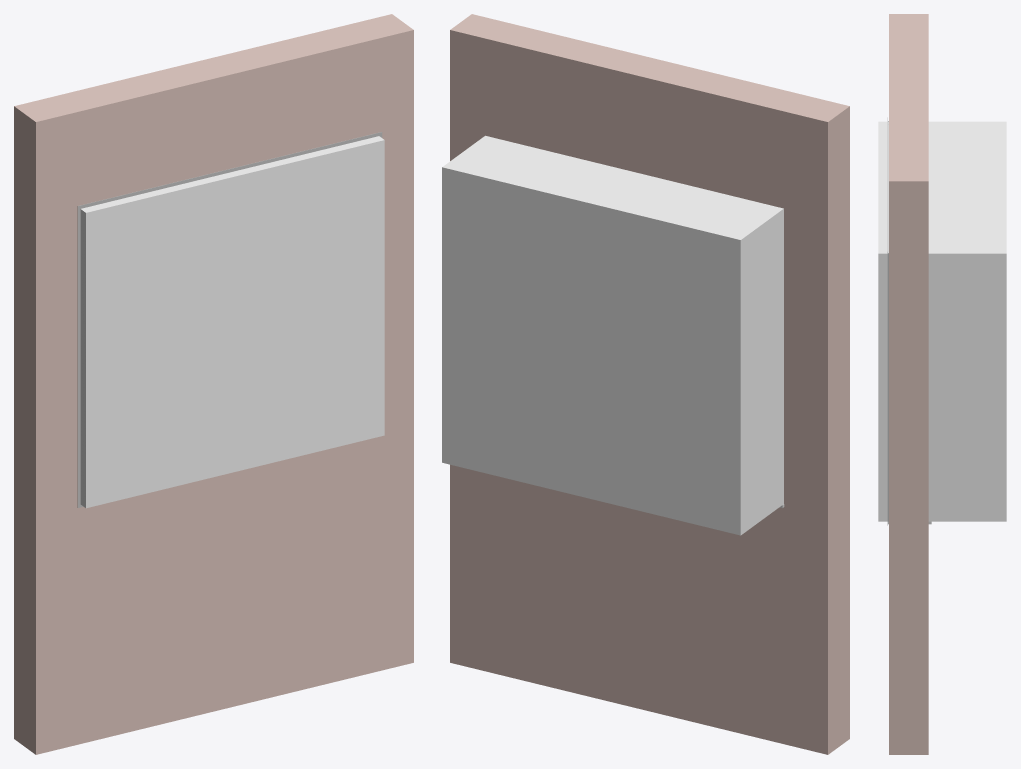
The model's file is window2.fbx.
3 views of the same model, side by side, from view 1: azimuth 30°, elevation 25°; view 2: azimuth 150°, elevation 25°; view 3: azimuth 270°, elevation 25° (orthographic). The views are drawn at different scales.
Parts seen in each view (by area): view 1: Room, CTRL_Hole, WindowFrame; view 2: Room, CTRL_Hole; view 3: CTRL_Hole, Room, WindowFrame.
Boxes of the visible parts, box(x1,y1,x2,y2) form: Room: box(14, 14, 413, 754); CTRL_Hole: box(80, 136, 384, 508); WindowFrame: box(77, 132, 382, 507); Room: box(450, 14, 849, 754); CTRL_Hole: box(442, 135, 783, 535); CTRL_Hole: box(878, 121, 1006, 521); Room: box(889, 14, 928, 754); WindowFrame: box(887, 117, 888, 525).
Size of the model in its own units: 200 by 320 by 65.
